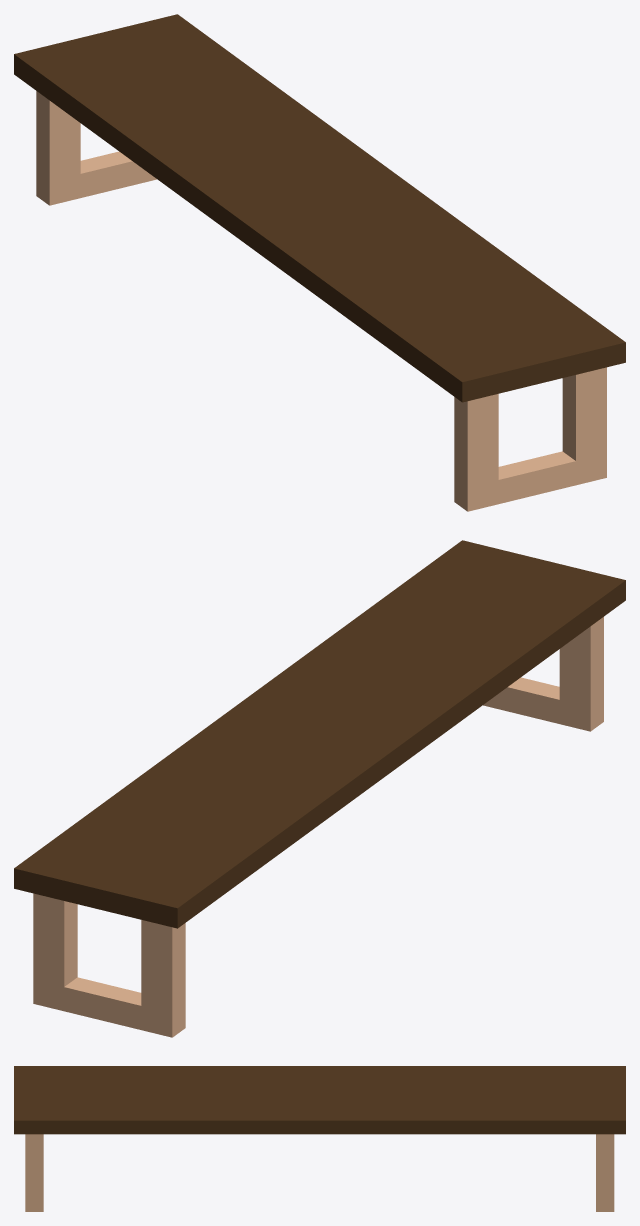
Rendered from bench.fbx.
3 renders of one model, top to bottom at view 1: azimuth 30°, elevation 25°; view 2: azimuth 150°, elevation 25°; view 3: azimuth 270°, elevation 25°, orthographic. The views are drawn at different scales.
Visible parts, largest first — view 1: Cube.188; view 2: Cube.188; view 3: Cube.188.
Boxes of the visible parts, bbox=[...] form: Cube.188: bbox=[14, 14, 625, 511]; Cube.188: bbox=[14, 540, 625, 1037]; Cube.188: bbox=[14, 1066, 625, 1211].
Size of the model in its own units: 200 by 162 by 949.
